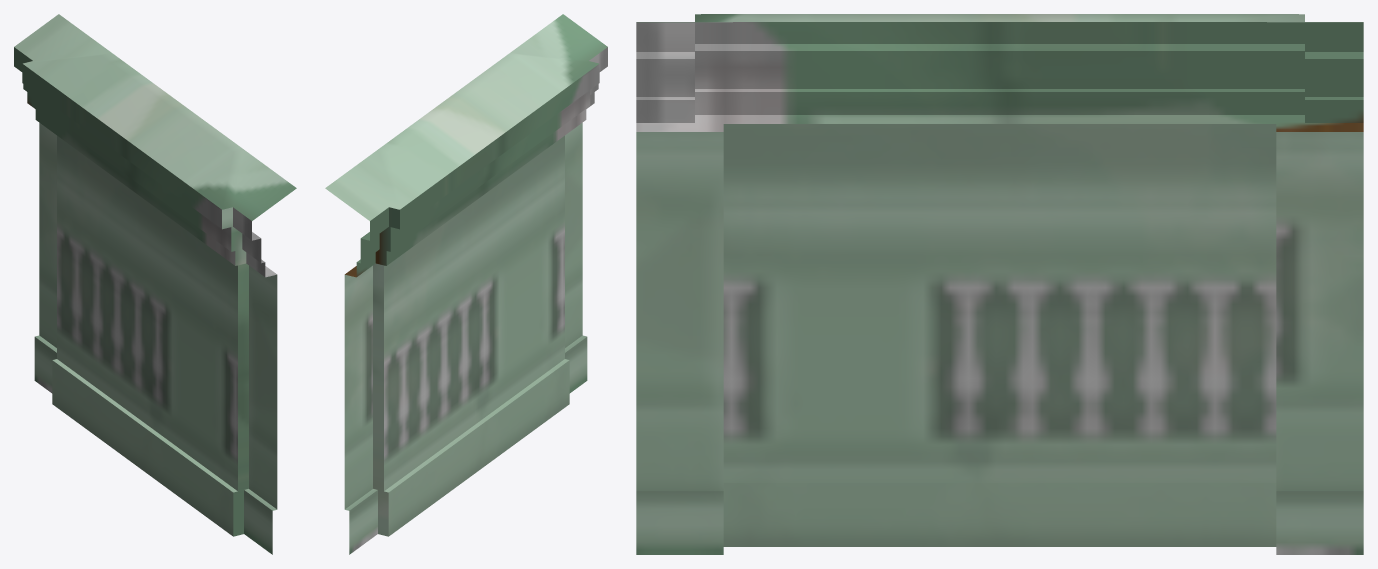
The model's file is qVin_Buld1_F1Win.fbx.
3 views of the same model, side by side, from view 1: azimuth 30°, elevation 25°; view 2: azimuth 150°, elevation 25°; view 3: azimuth 270°, elevation 25° (orthographic). The views are drawn at different scales.
Parts seen in each view (by area): view 1: qVin_Buld1_F1Win; view 2: qVin_Buld1_F1Win; view 3: qVin_Buld1_F1Win.
Boxes of the visible parts, x1,y1,x2,y2 form: qVin_Buld1_F1Win: [14, 14, 296, 554]; qVin_Buld1_F1Win: [325, 14, 607, 554]; qVin_Buld1_F1Win: [636, 14, 1363, 554].
Size of the model in its own units: 40.47 by 251 by 300.
1 material, 1 textured.
